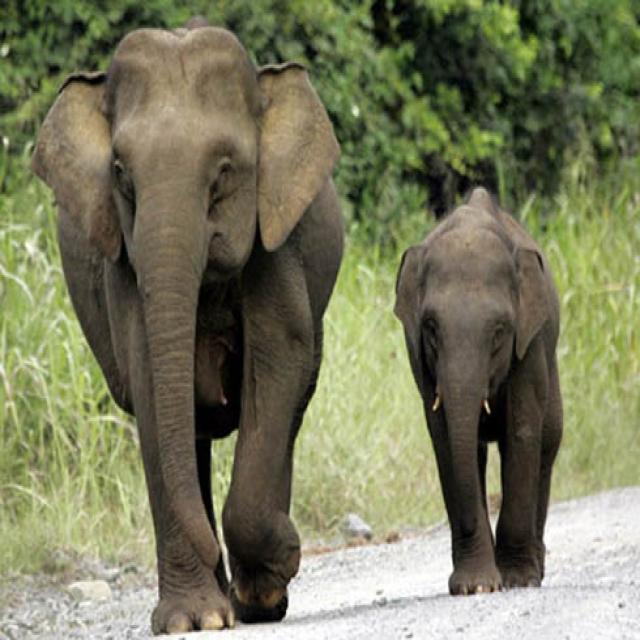Elephant: (11, 25, 366, 631), (385, 171, 576, 610)
